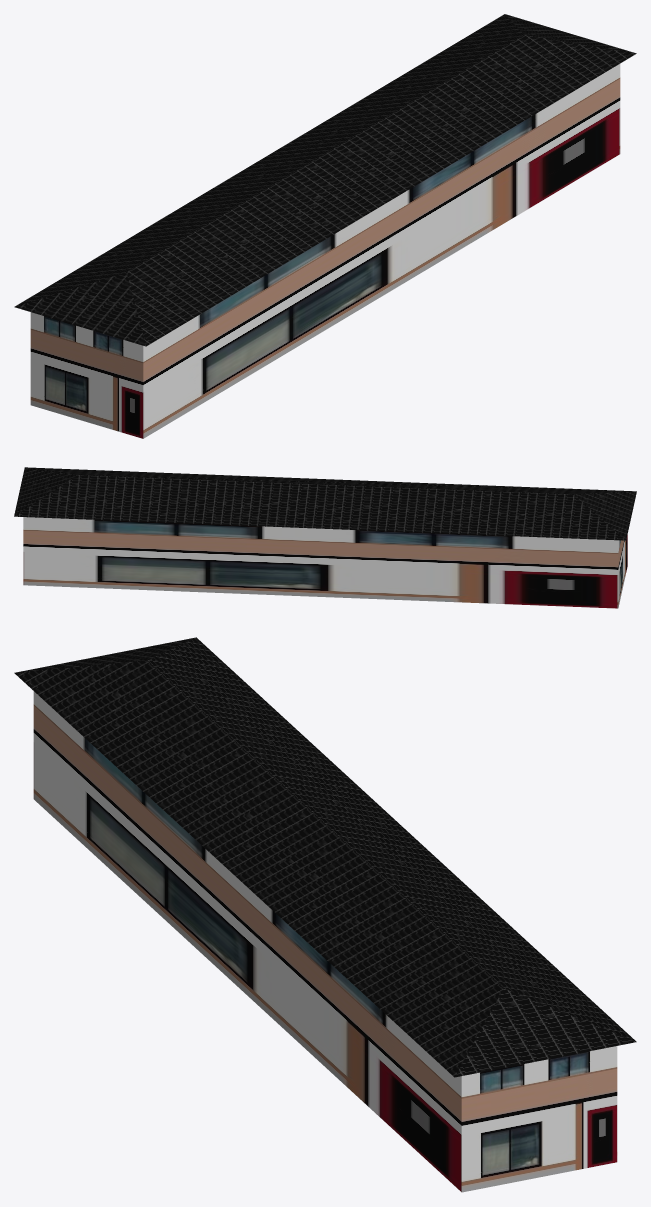
3 renders of one model, top to bottom at view 1: azimuth 30°, elevation 25°; view 2: azimuth 150°, elevation 25°; view 3: azimuth 270°, elevation 25°, orthographic. The views are drawn at different scales.
Visible parts, largest first — view 1: CityEngineMaterial_14_m, CityEngineMaterial_5_m; view 2: CityEngineMaterial_5_m, CityEngineMaterial_14_m; view 3: CityEngineMaterial_14_m, CityEngineMaterial_5_m.
Boxes of the visible parts, bbox=[...] form: CityEngineMaterial_14_m: bbox=[14, 14, 636, 346]; CityEngineMaterial_5_m: bbox=[30, 64, 620, 438]; CityEngineMaterial_5_m: bbox=[23, 517, 627, 608]; CityEngineMaterial_14_m: bbox=[14, 467, 636, 540]; CityEngineMaterial_14_m: bbox=[14, 637, 636, 1077]; CityEngineMaterial_5_m: bbox=[33, 691, 617, 1192].
Bounding box in the file's own units: 66.09 × 10.96 × 39.53.
